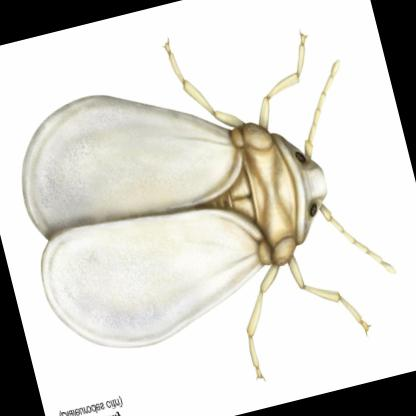whitefly: (21, 34, 396, 376)
